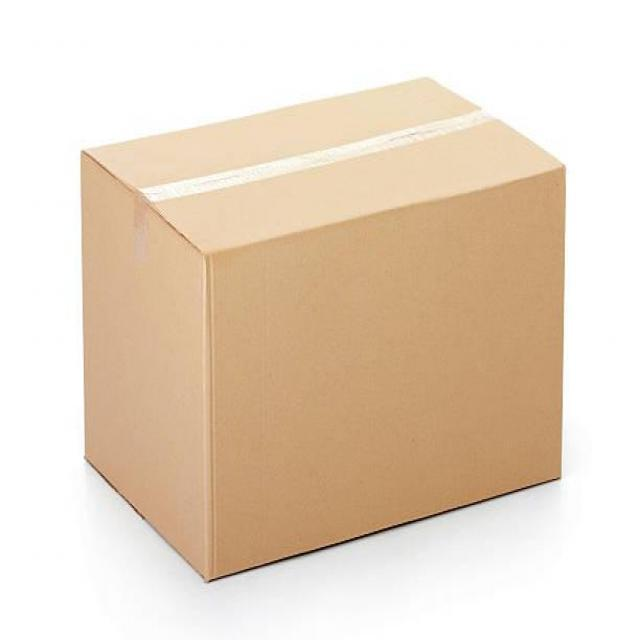box: (74, 66, 574, 586)
